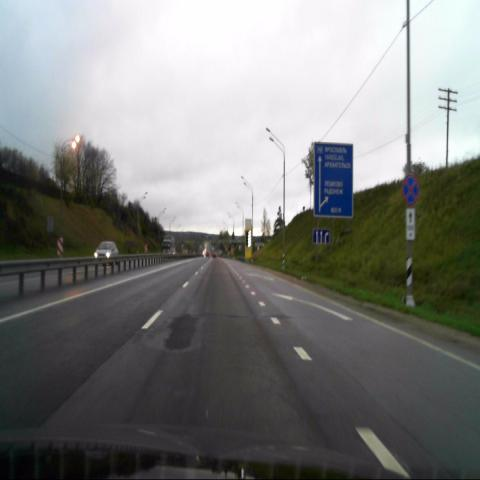5_15_1: (313, 229, 329, 244)
8_2_2: (406, 208, 414, 239)
